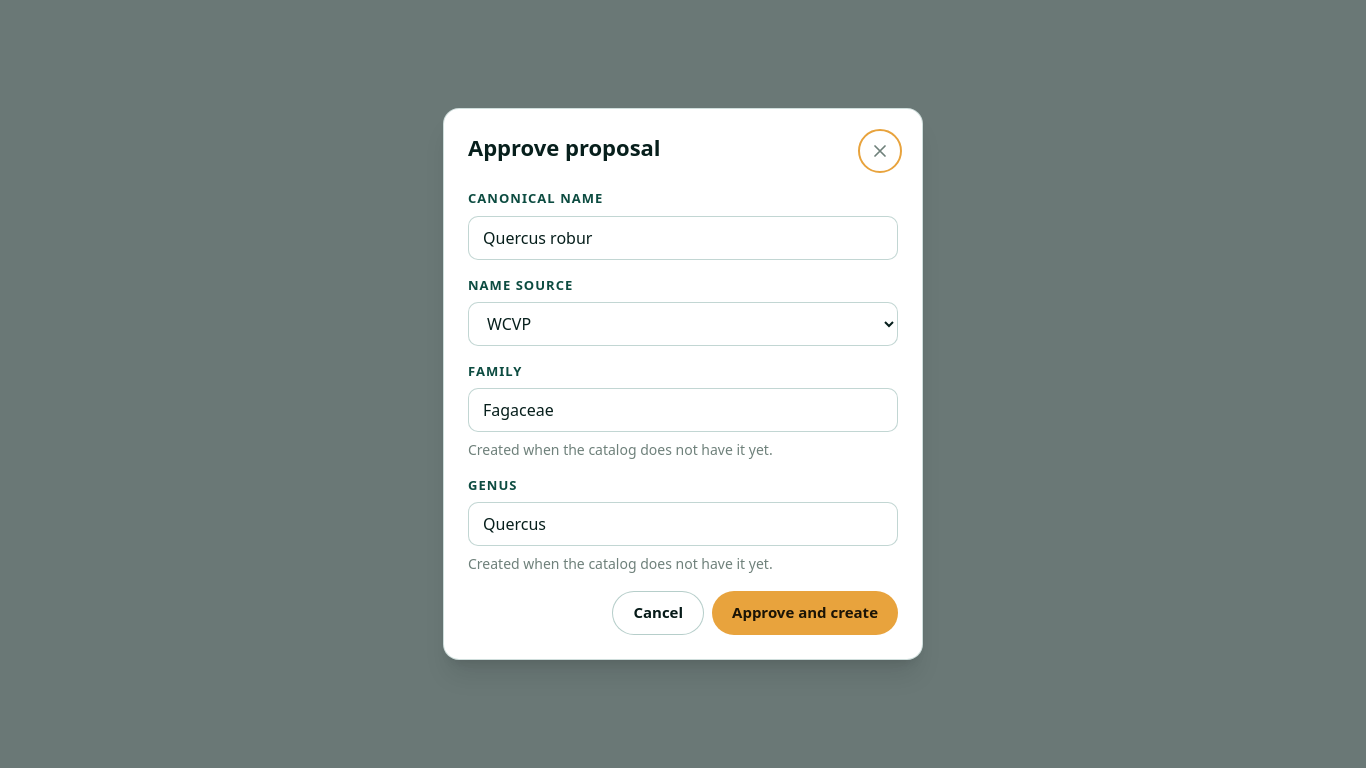
Test: RFC-75 R4 ApproveProposalDialog › RFC-75 R4 PROPOSAL_DECIDED reads as itself, with no catalog-search link
Click the button "Approve and create" at (805, 613), box [712, 591, 898, 635]
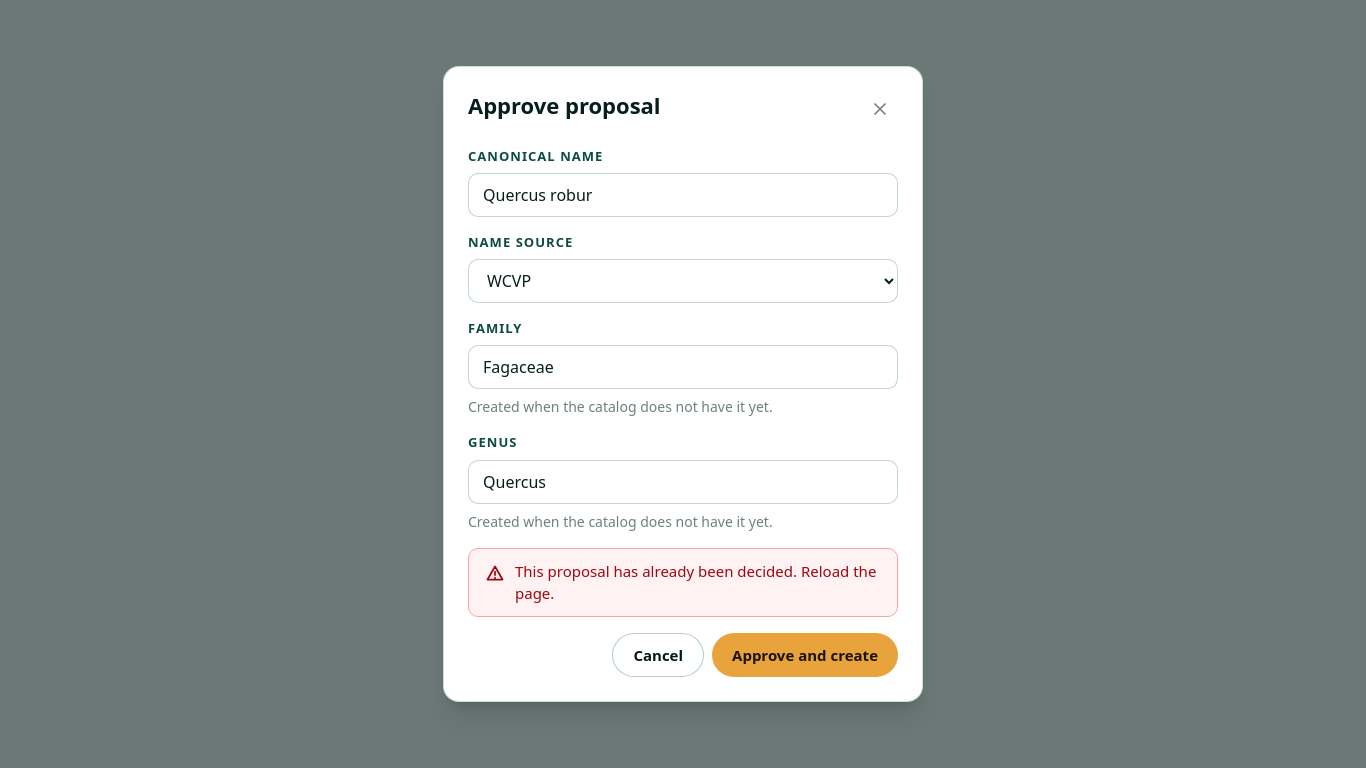
Result: the message reads "This proposal has already been decided. Reload the page." at [515, 561, 876, 603]
